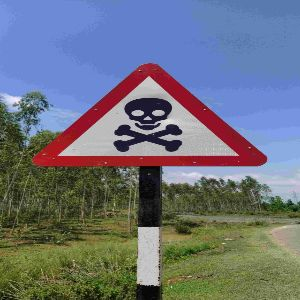Accident prone area: (25, 52, 272, 179)
